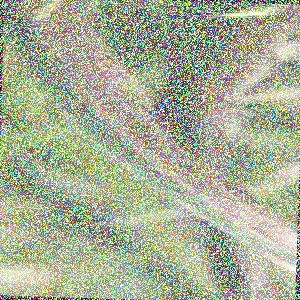Leaf_Blast: (23, 15, 138, 146)
